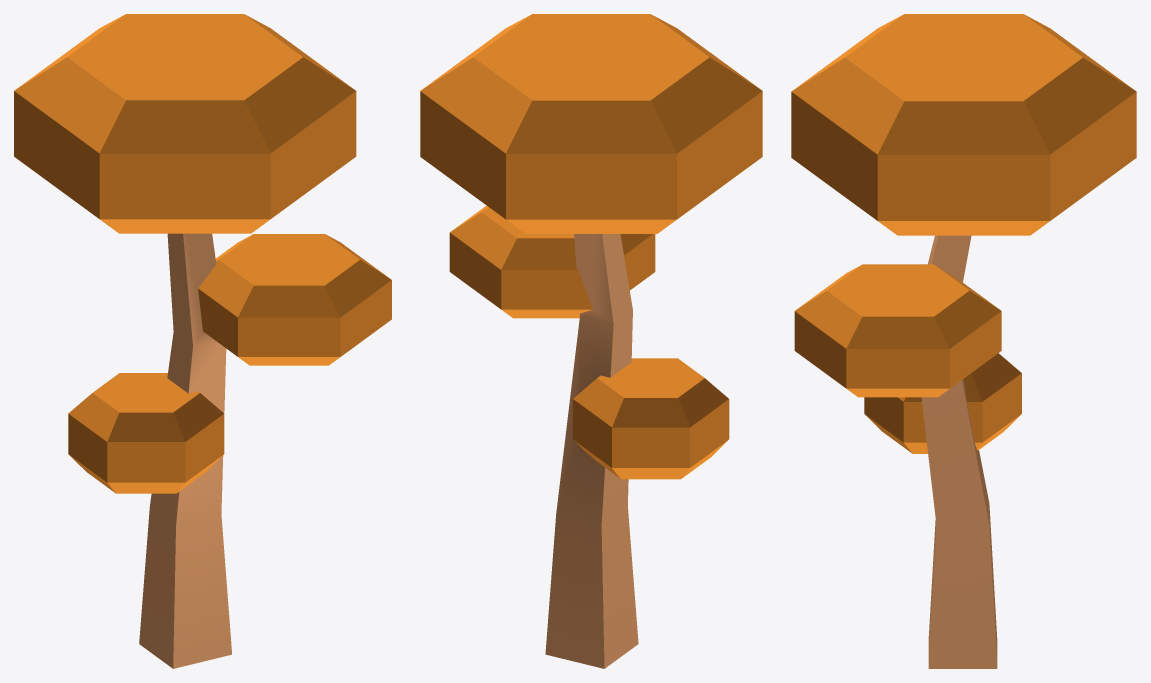
Rendered from tree_plateau_fall.obj.
The picture shows the model from 3 angles, left to right: view 1: azimuth 30°, elevation 25°; view 2: azimuth 150°, elevation 25°; view 3: azimuth 270°, elevation 25°; orthographic projection.
Parts seen in each view (by area): view 1: tree_plateau_fall; view 2: tree_plateau_fall; view 3: tree_plateau_fall.
Boxes of the visible parts, left/top/right/bottom form: tree_plateau_fall: left=14, top=14, right=391, bottom=668; tree_plateau_fall: left=420, top=14, right=762, bottom=668; tree_plateau_fall: left=791, top=14, right=1136, bottom=668.
Bounding box in the file's own units: 6.12 × 12.49 × 6.55.
